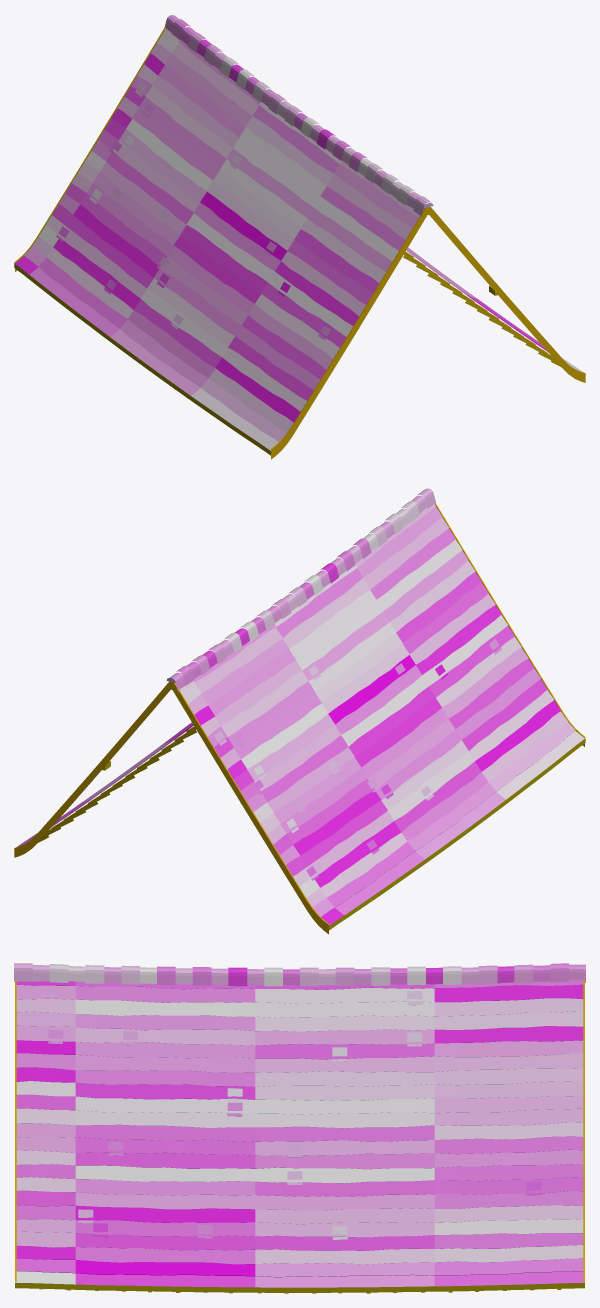
File: roof_p_8x12.glb
3 renders of one model, top to bottom at view 1: azimuth 30°, elevation 25°; view 2: azimuth 150°, elevation 25°; view 3: azimuth 270°, elevation 25°, orthographic. The views are drawn at different scales.
Parts seen in each view (by area): view 1: roof_p_8x12; view 2: roof_p_8x12; view 3: roof_p_8x12.
Boxes of the visible parts, bbox=[...] form: roof_p_8x12: bbox=[14, 15, 585, 459]; roof_p_8x12: bbox=[14, 488, 585, 934]; roof_p_8x12: bbox=[14, 963, 585, 1293].
Bounding box in the file's own units: 9 × 6.03 × 12.74.
